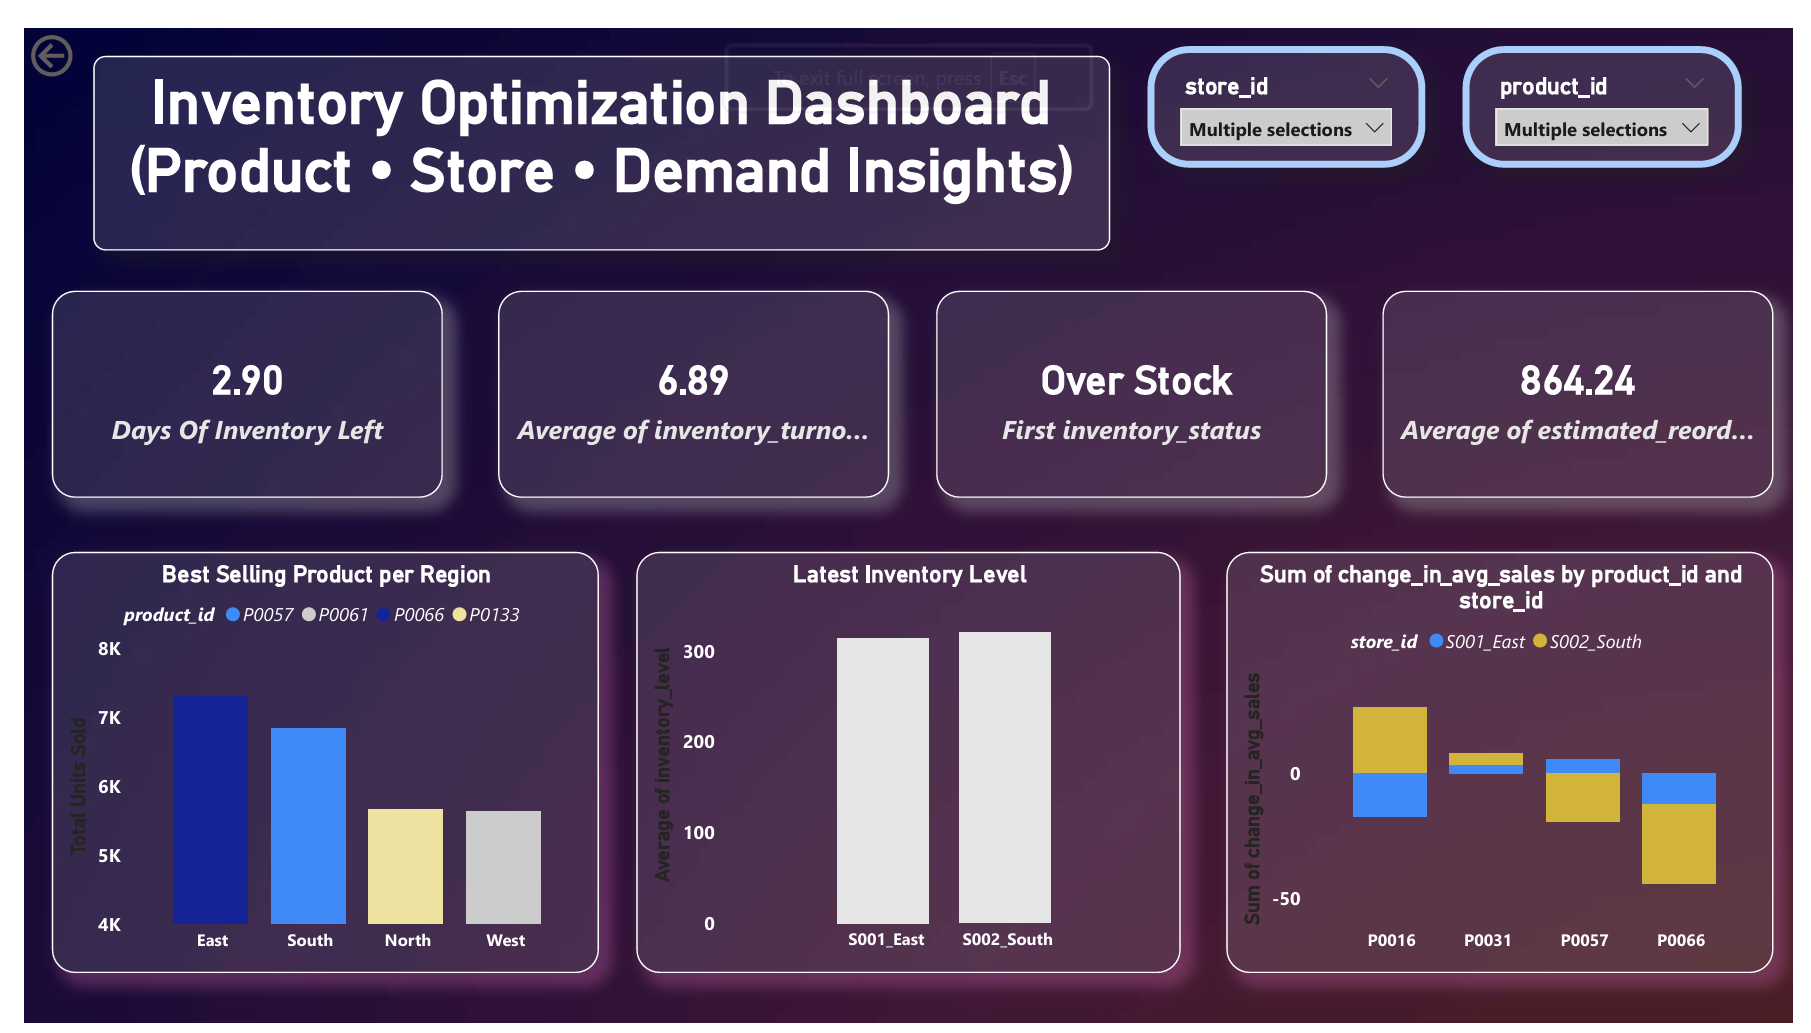

This screenshot's page, from the dashboard's own definition file:
{"tool":"powerbi","page":{"name":"Page 1","canvas":[1280,720],"ordinal":0},"visuals":[{"type":"textbox","box":[50,20,735.7,141.4],"z":0},{"type":"slicer","fields":{"Values":["Dim_Store.store_id"]},"box":[812.9,12.9,201.4,88.6],"z":1000},{"type":"card","fields":{"Values":["Avg(inventory_days_left.days_of_inventory_left)"]},"box":[20,190,282.9,150],"z":2000},{"type":"columnChart","title":"Best Selling Product per Region","fields":{"Y":["Sum(best_selling_product_region.total_units_sold)"],"Category":["best_selling_product_region.region"],"Series":["best_selling_product_region.product_id"]},"box":[20,378.6,395.7,305.7],"z":3000},{"type":"card","fields":{"Values":["Avg(inventory_turnover.inventory_turnover_ratio)"]},"box":[342.9,190,282.9,150],"z":4000},{"type":"actionButton","box":[0,0,100,40],"z":5000},{"type":"slicer","fields":{"Values":["Dim_Product.product_id"]},"box":[1041.4,12.9,201.4,88.6],"z":6000},{"type":"card","fields":{"Values":["Min(Inventory_status(low,ok,over).inventory_status)"]},"box":[660,190,282.9,150],"z":7000},{"type":"columnChart","title":"Latest Inventory Level","fields":{"Category":["Dim_Product.product_id","Dim_Store.store_id"],"Y":["Avg(stock_levels.inventory_level)"]},"box":[442.9,378.6,394.3,305.7],"z":8000},{"type":"card","fields":{"Values":["Avg(reorder_point.estimated_reorder_point)"]},"box":[982.9,190,282.9,150],"z":9000},{"type":"columnChart","fields":{"Category":["Dim_Product.product_id"],"Y":["Sum(sales_drop-gain.change_in_avg_sales)"],"Series":["Dim_Store.store_id"]},"box":[870,378.6,395.7,305.7],"z":10000}]}

Visuals, with their boxes in screenshot pixels (x1, y1, x2, y2), scaled from the page's 1280x720 canvas onto the 1811x1033 screenshot:
textbox: {"left": 71, "top": 29, "right": 1112, "bottom": 232}
slicer - Dim_Store.store_id: {"left": 1150, "top": 19, "right": 1435, "bottom": 146}
card - Avg(inventory_days_left.days_of_inventory_left): {"left": 28, "top": 273, "right": 429, "bottom": 488}
"Best Selling Product per Region" columnChart: {"left": 28, "top": 543, "right": 588, "bottom": 982}
card - Avg(inventory_turnover.inventory_turnover_ratio): {"left": 485, "top": 273, "right": 885, "bottom": 488}
actionButton: {"left": 0, "top": 0, "right": 141, "bottom": 57}
slicer - Dim_Product.product_id: {"left": 1473, "top": 19, "right": 1758, "bottom": 146}
card - Min(Inventory_status(low,ok,over).inventory_status): {"left": 934, "top": 273, "right": 1334, "bottom": 488}
"Latest Inventory Level" columnChart: {"left": 627, "top": 543, "right": 1185, "bottom": 982}
card - Avg(reorder_point.estimated_reorder_point): {"left": 1391, "top": 273, "right": 1791, "bottom": 488}
columnChart - Dim_Product.product_id x Sum(sales_drop-gain.change_in_avg_sales): {"left": 1231, "top": 543, "right": 1791, "bottom": 982}
